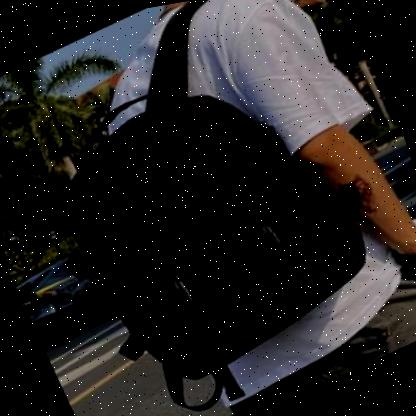bag: (38, 64, 394, 406)
